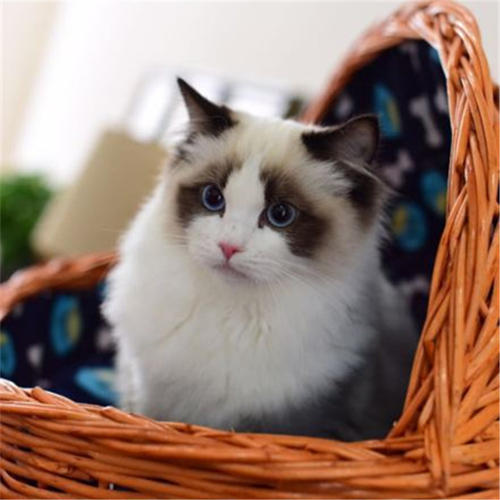cat: (103, 69, 405, 437)
